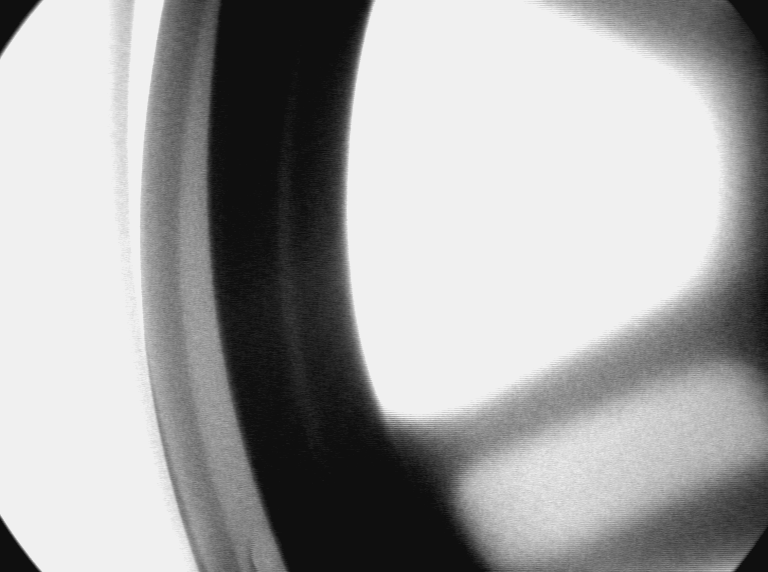defect: (249, 535, 288, 571)
